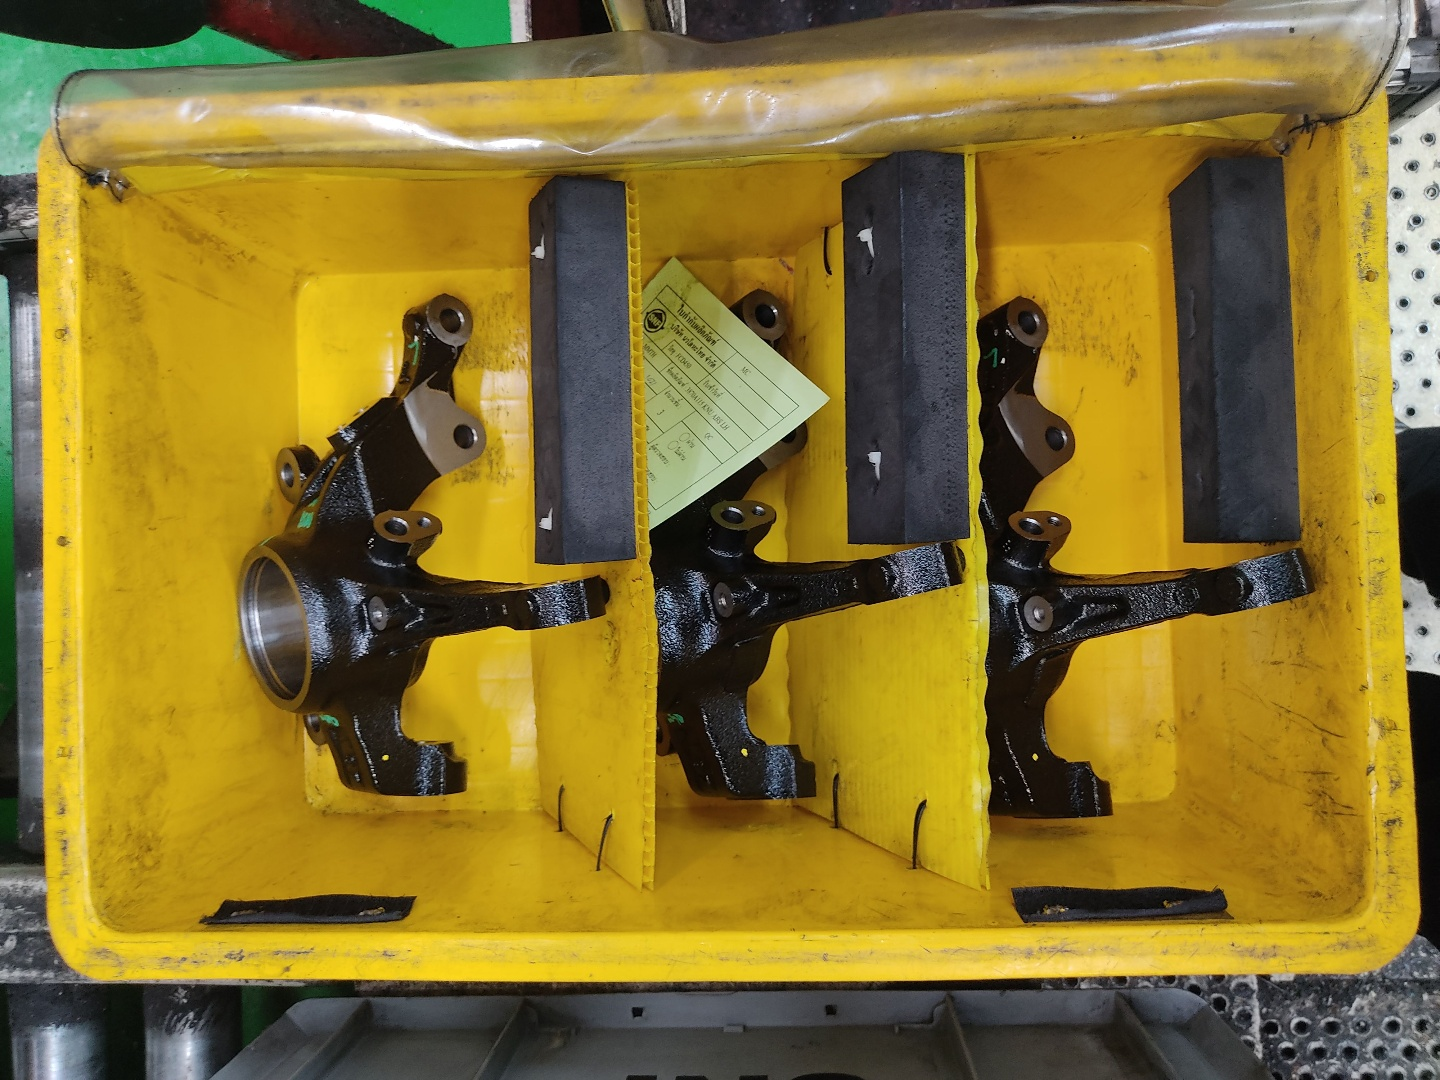abs-lh: (231, 281, 621, 807), (968, 281, 1319, 827), (625, 278, 972, 809)
